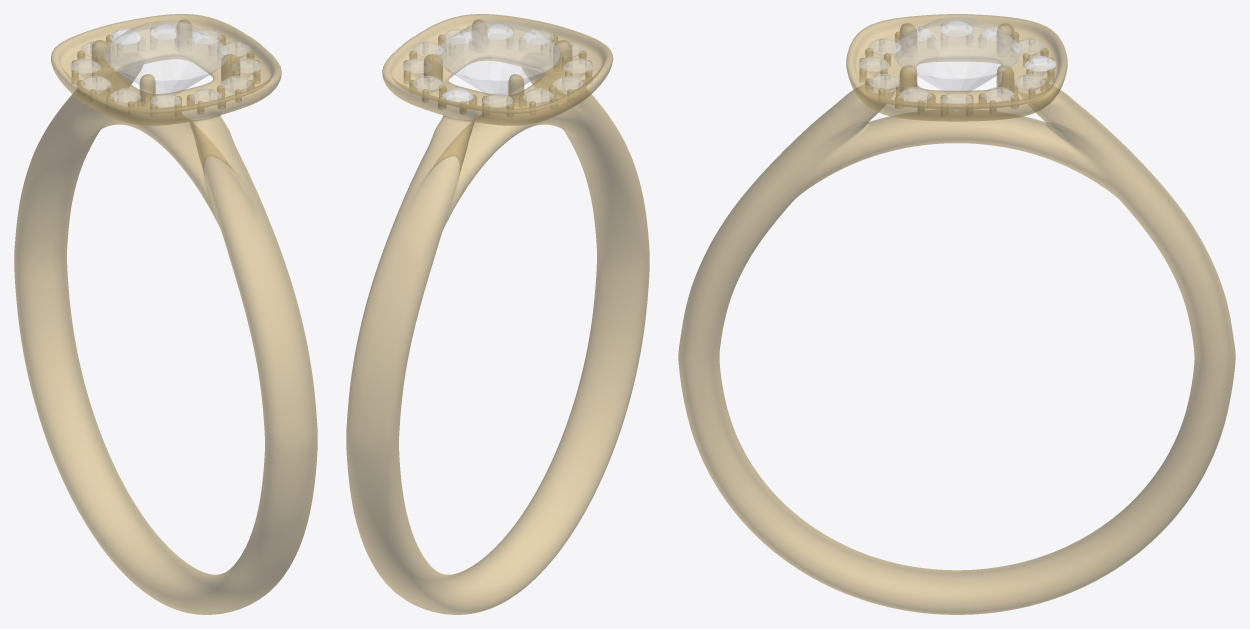
The picture shows the model from 3 angles, left to right: view 1: azimuth 30°, elevation 25°; view 2: azimuth 150°, elevation 25°; view 3: azimuth 270°, elevation 25°; orthographic projection. The views are drawn at different scales.
Parts seen in each view (by area): view 1: Ring, Diamond; view 2: Ring, Diamond; view 3: Ring, Diamond.
Part boxes in pixels (left/top/right/bottom): Ring: left=14, top=14, right=317, bottom=614; Diamond: left=70, top=21, right=261, bottom=108; Ring: left=346, top=14, right=649, bottom=614; Diamond: left=402, top=21, right=593, bottom=108; Ring: left=678, top=14, right=1235, bottom=614; Diamond: left=858, top=17, right=1056, bottom=111.
Bounding box in the file's own units: 0.9066 × 2.64 × 2.3.
